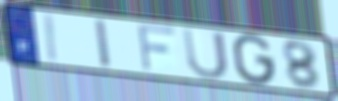8: (281, 39, 322, 90)
F: (135, 22, 179, 73)
G: (231, 32, 277, 87)
I: (93, 17, 114, 70), (44, 13, 60, 65)
U: (181, 26, 231, 82)
